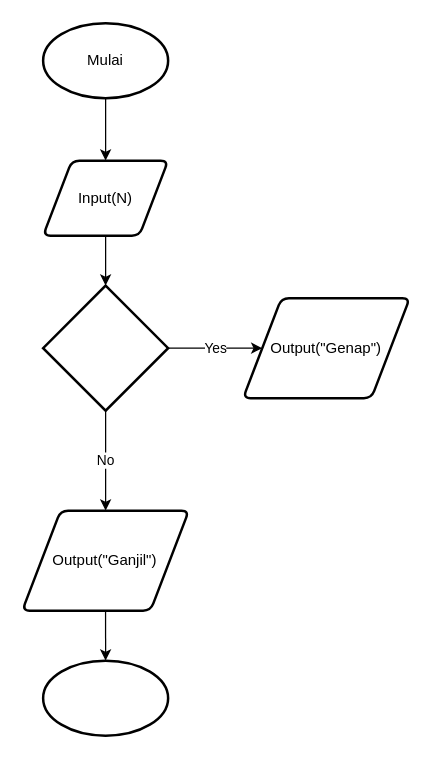
Image size: 433x758. Some labels were removed from this diagram. Here are the shapes that lost their labels. From the top down, the centre of each, then its label:
(105,347): N % 2 === 0
(105,697): Selesai
